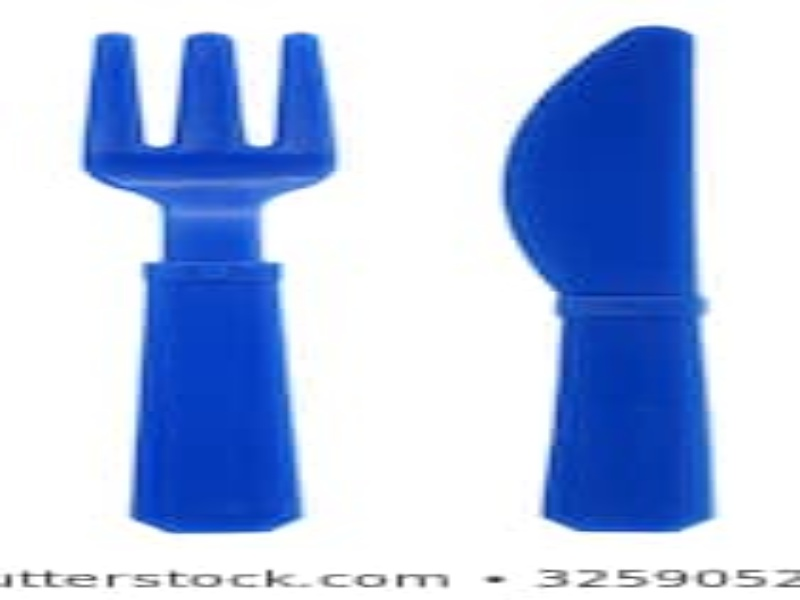plastic-silverware: (70, 20, 353, 548), (494, 17, 748, 539)
